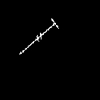treble_crochet: (20, 19, 57, 53)
